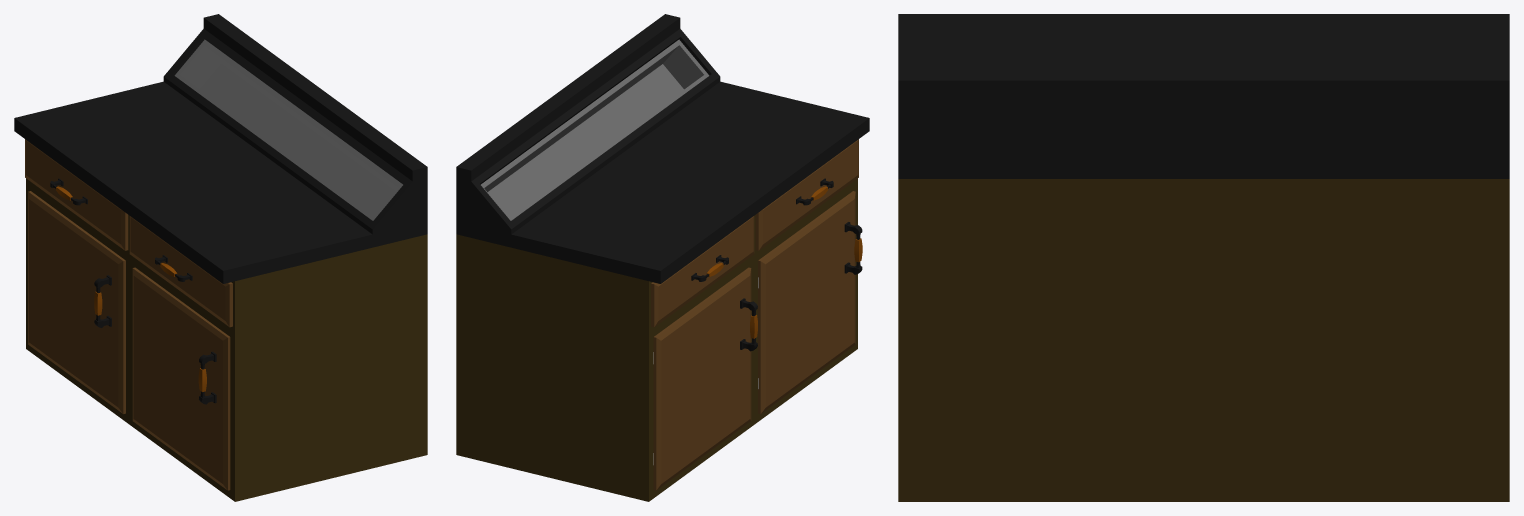
Rendered from Topping Station.FBX.
3 renders of one model, left to right at view 1: azimuth 30°, elevation 25°; view 2: azimuth 150°, elevation 25°; view 3: azimuth 270°, elevation 25°, orthographic. The views are drawn at different scales.
Parts seen in each view (by area): view 1: Kitchen Counter Base, Cabinet Door001, Cabinet Door, Drawer001, Drawer; view 2: Kitchen Counter Base, Cabinet Door, Cabinet Door001, Drawer, Drawer001; view 3: Kitchen Counter Base.
Part boxes in pixels (x1,y1,x2,y2): Kitchen Counter Base: (14,14,427,501); Cabinet Door001: (132,267,230,490); Cabinet Door: (28,191,125,413); Drawer001: (129,216,232,327); Drawer: (25,139,128,250); Kitchen Counter Base: (456,14,869,501); Cabinet Door: (653,267,757,490); Cabinet Door001: (758,191,862,414); Drawer: (651,216,754,327); Drawer001: (755,139,858,250); Kitchen Counter Base: (898,14,1509,501).
Bounding box in the file's own units: 37.89 × 49.32 × 64.87.
